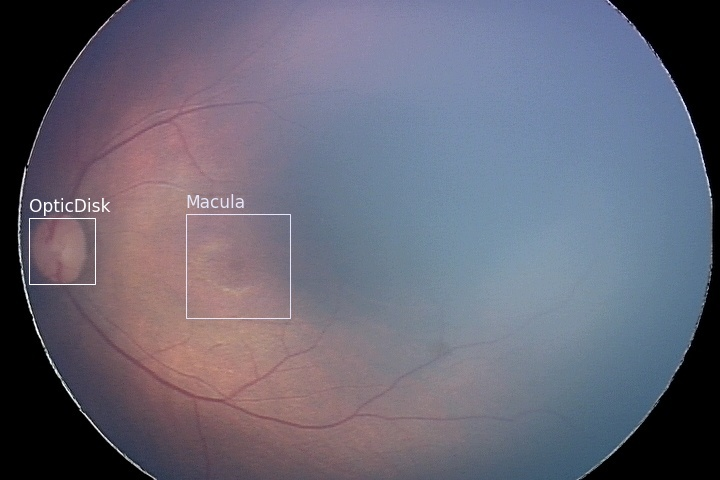Macula: (185, 213, 289, 317)
OpticDisk: (28, 217, 94, 283)
